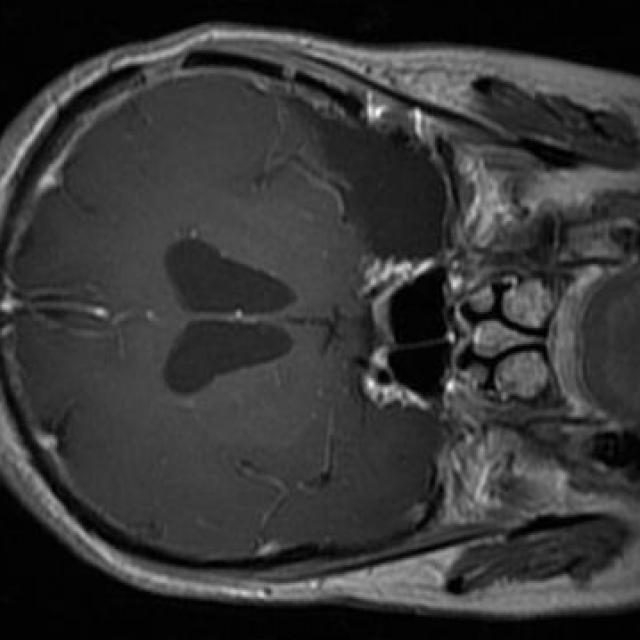glioma: (278, 96, 444, 260)
